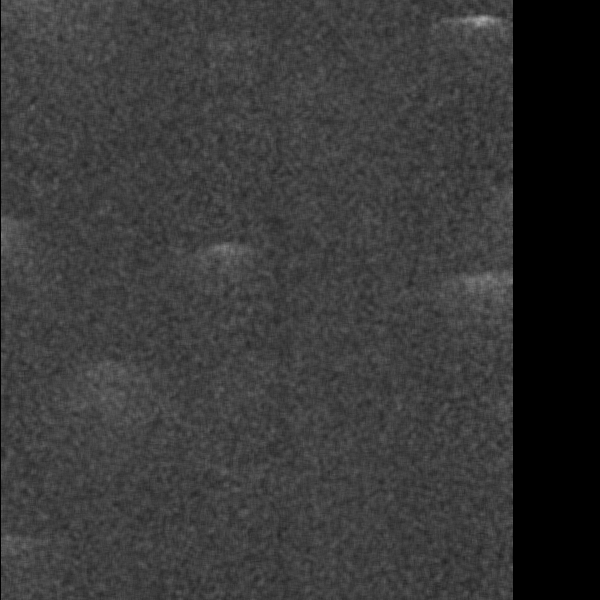spark: (343, 268, 423, 380), (150, 167, 199, 212), (497, 40, 518, 70)
